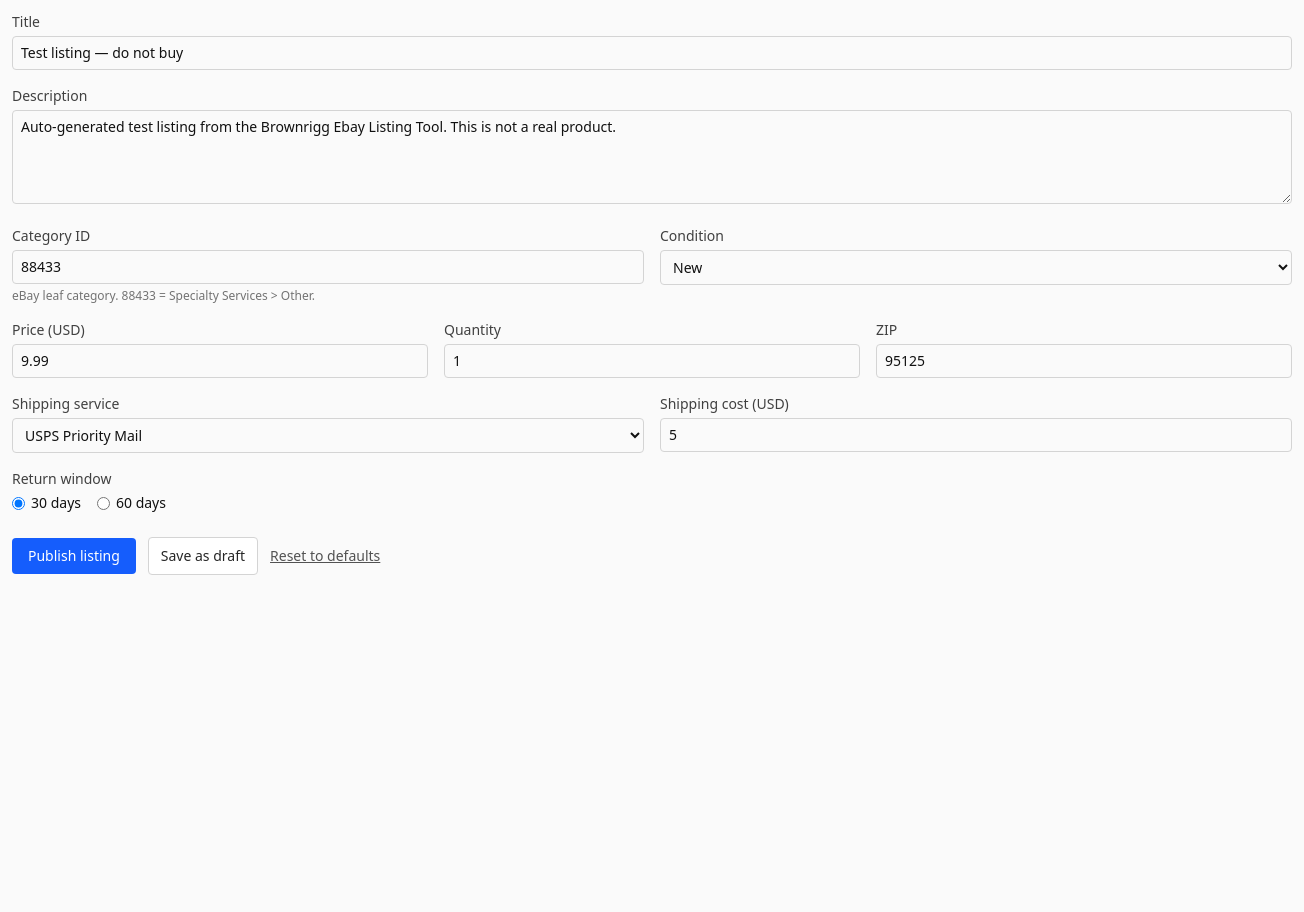
Test: ListingForm › submits a valid form and shows the success panel with ItemID + link
What coordinates should you click on to do the following:
click the button with test id "publish-button"
I would click on:
 (74, 556)
Its box is 12,538 -> 136,574.
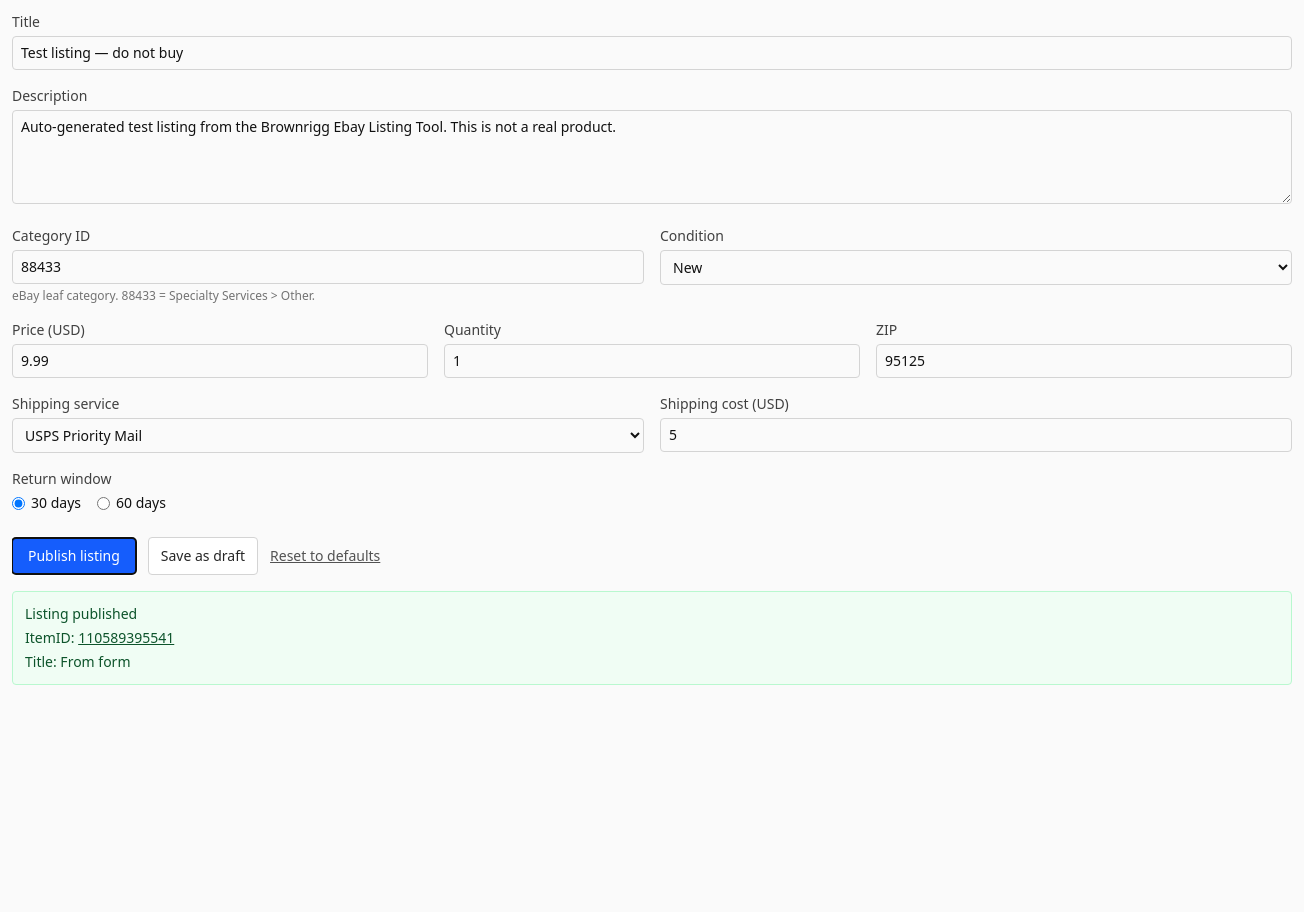
Expected: the message "Listing published ItemID: 110589395541 Title: From form" is shown, 12,591 -> 1292,685
